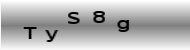8: (92, 10, 107, 23)
S: (66, 11, 81, 24)
T: (22, 25, 38, 40)
g: (117, 19, 130, 33)
y: (44, 28, 59, 43)
